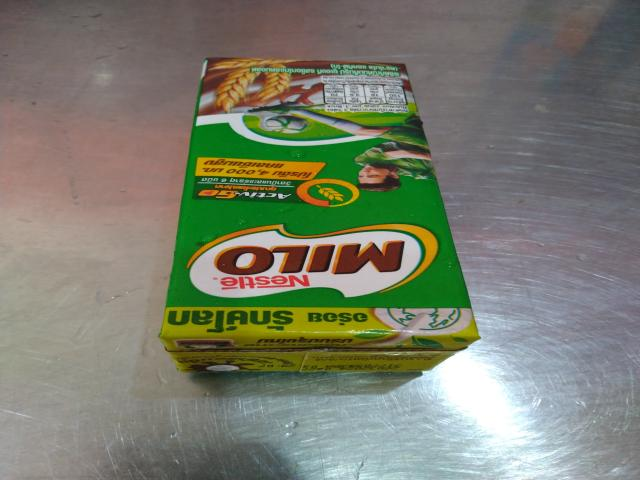drink_box: (156, 47, 495, 386)
